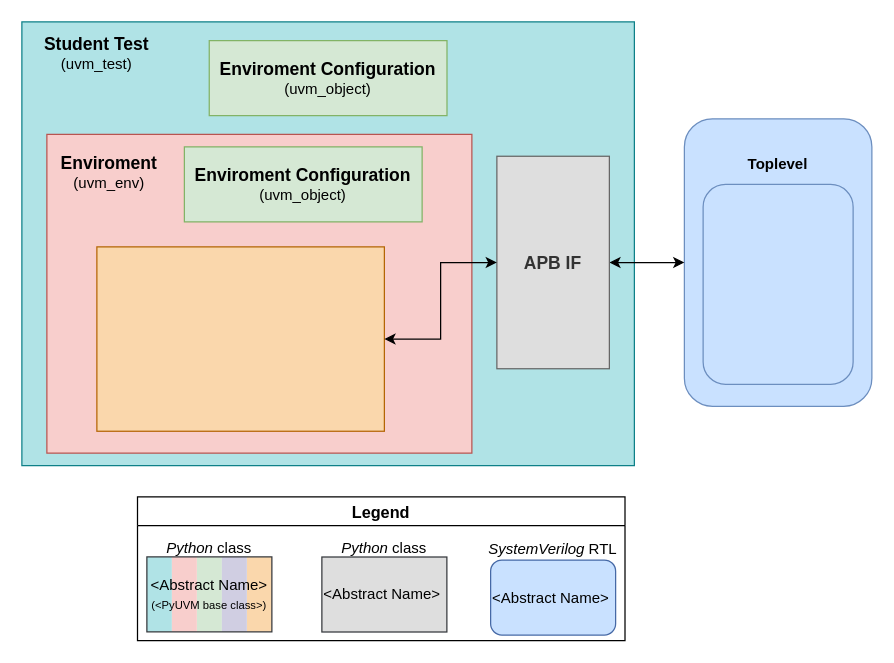
Image size: 894x663. Some labels were removed from this diagram. Each missing label, with the centre of its shape:
"APB UVC (uvm_agent)" goes at [240,338].
"Student Subsystem" goes at [777,283].
